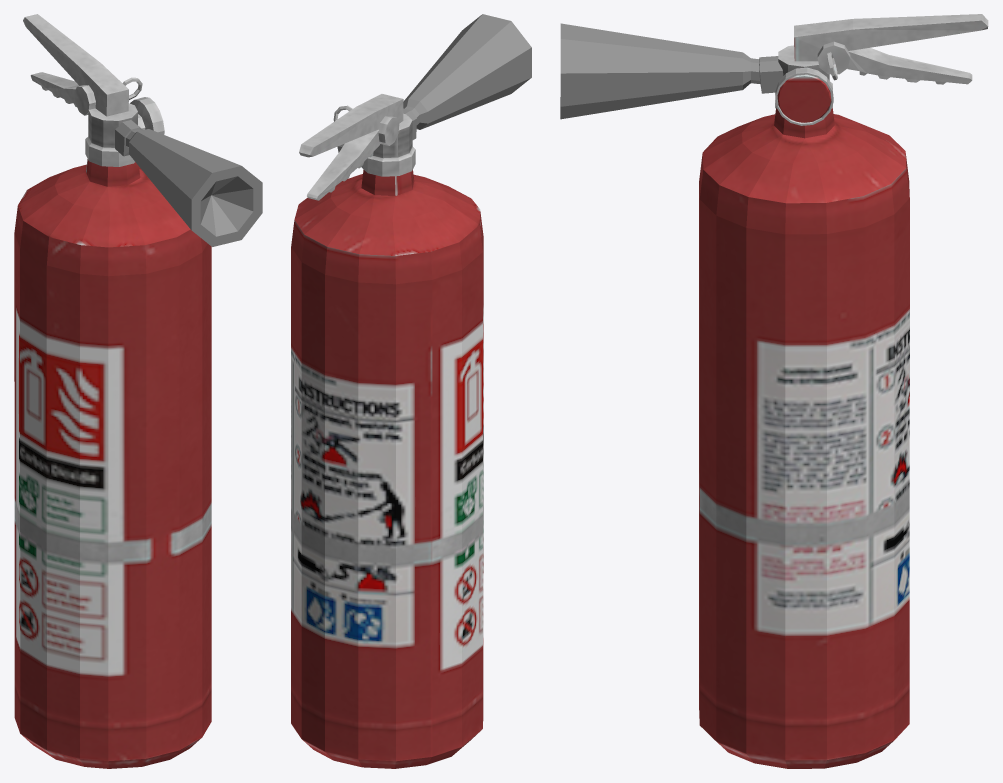
File: 灭火器.FBX
The picture shows the model from 3 angles, left to right: view 1: azimuth 30°, elevation 25°; view 2: azimuth 150°, elevation 25°; view 3: azimuth 270°, elevation 25°; orthographic projection. The views are drawn at different scales.
Parts seen in each view (by area): view 1: gd0320, 对象105, 对象106, 对象107; view 2: gd0320, 对象105, 对象106, 对象107; view 3: gd0320, 对象105, 对象106, 对象107.
Boxes of the visible parts, left/top/right/bottom form: gd0320: left=14, top=77, right=211, bottom=768; 对象105: left=115, top=120, right=262, bottom=246; 对象106: left=23, top=14, right=128, bottom=116; 对象107: left=30, top=72, right=95, bottom=115; gd0320: left=291, top=105, right=483, bottom=768; 对象105: left=403, top=14, right=531, bottom=139; 对象106: left=299, top=94, right=403, bottom=157; 对象107: left=307, top=116, right=399, bottom=200; gd0320: left=699, top=45, right=909, bottom=768; 对象105: left=560, top=23, right=783, bottom=119; 对象106: left=794, top=14, right=988, bottom=61; 对象107: left=817, top=41, right=972, bottom=84.
Size of the model in its own units: 212 by 792 by 430.
Materials: 2 (1 with a texture image).
